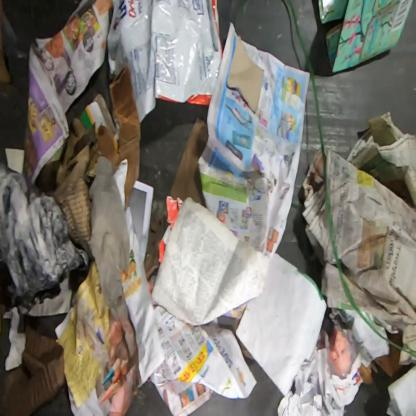cardboard: (36, 64, 141, 258), (320, 0, 414, 74), (0, 325, 65, 414), (227, 35, 264, 116)
soft_plastic: (106, 0, 223, 121)
